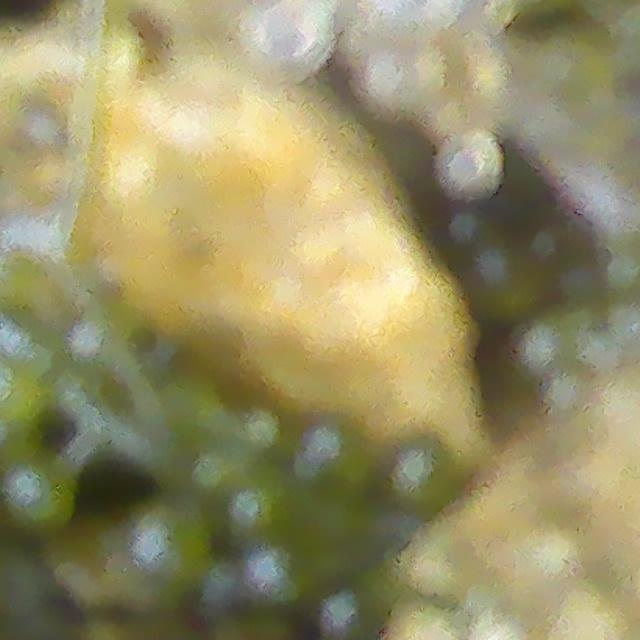SeaGrape: (358, 38, 453, 116), (135, 501, 214, 585), (290, 421, 372, 496), (231, 0, 328, 61), (391, 439, 466, 517), (7, 464, 73, 522), (229, 474, 290, 536), (439, 136, 502, 196)
